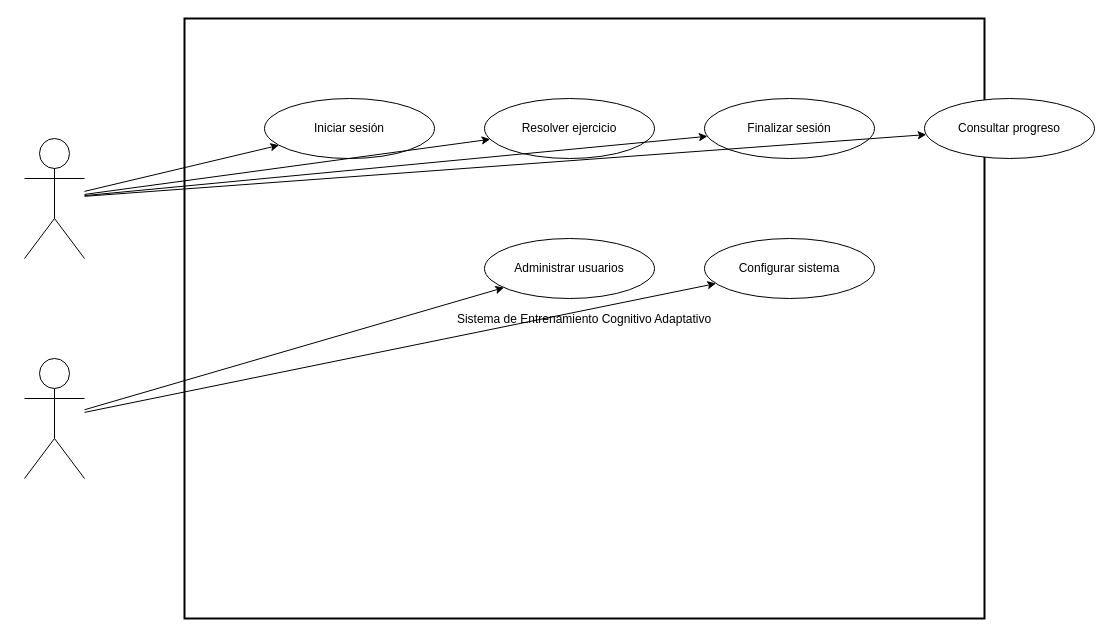
Some shapes in this 1112 by 636 pixel diagram are drawn without their labels. The shapes that lost their labels are listed below. From the top down, each one's centre as x and y in pixels, then its label:
(x=54, y=198): Usuario final
(x=54, y=418): Administrador
